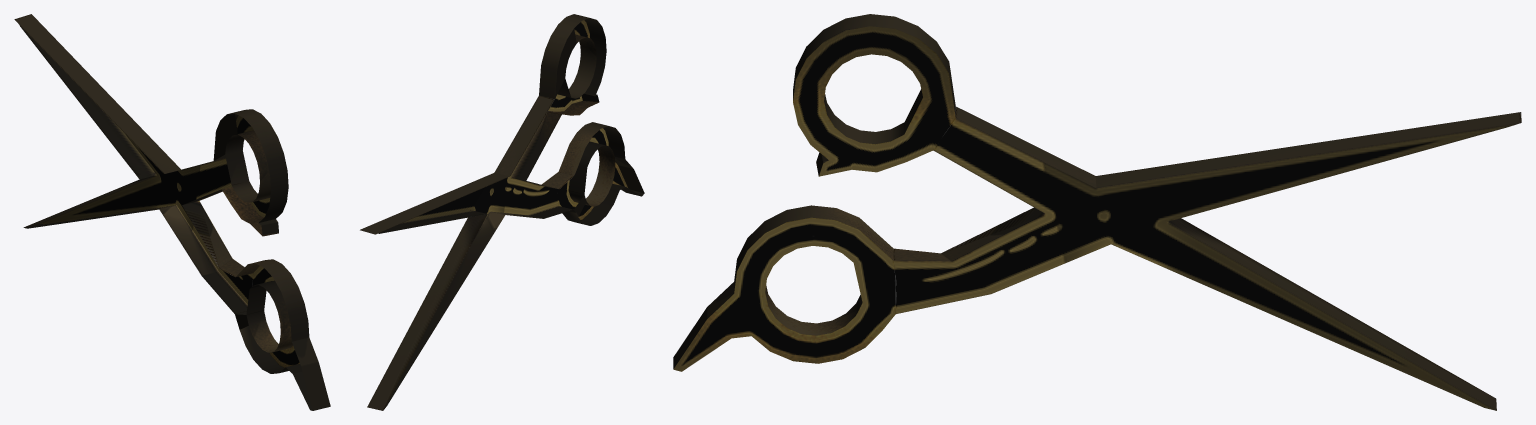
The model's file is Tx_prop_scissors_28.fbx.
3 renders of one model, left to right at view 1: azimuth 30°, elevation 25°; view 2: azimuth 150°, elevation 25°; view 3: azimuth 270°, elevation 25°, orthographic. The views are drawn at different scales.
Visible parts, largest first — view 1: Tx_prop_scissors; view 2: Tx_prop_scissors; view 3: Tx_prop_scissors.
Part boxes in pixels (bbox=[...]): Tx_prop_scissors: bbox=[14, 14, 330, 410]; Tx_prop_scissors: bbox=[360, 14, 644, 410]; Tx_prop_scissors: bbox=[673, 14, 1521, 410].
Size of the model in its own units: 0.4583 by 6.54 by 13.06.
